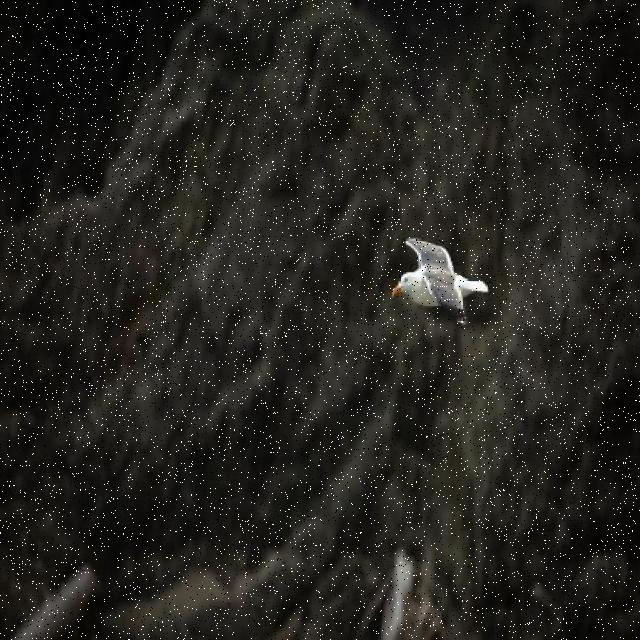bird: (392, 236, 490, 326)
